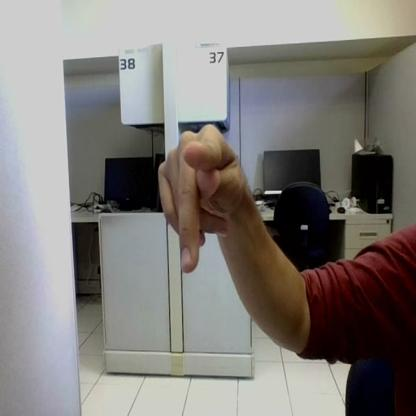P: (158, 125, 240, 273)
